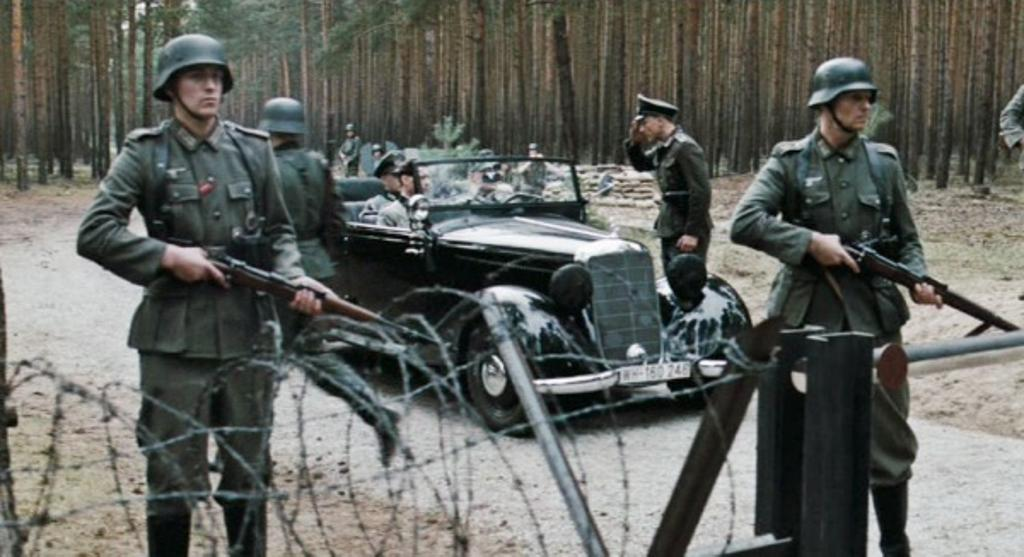face: (176, 59, 223, 115), (832, 84, 873, 130), (640, 116, 660, 142), (386, 170, 402, 191), (418, 170, 430, 191), (402, 175, 414, 192), (473, 171, 482, 181), (350, 166, 358, 175), (374, 149, 381, 157), (347, 128, 354, 135)
